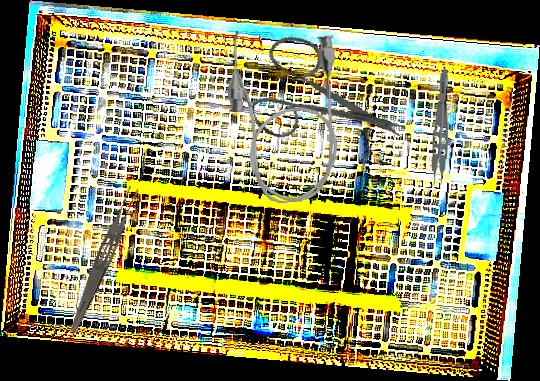Cannula: (223, 23, 346, 207)
Dressing Forceps: (66, 183, 143, 337)
Iris Scissors: (234, 11, 410, 179)
Tissue Forceps: (426, 68, 451, 192)
